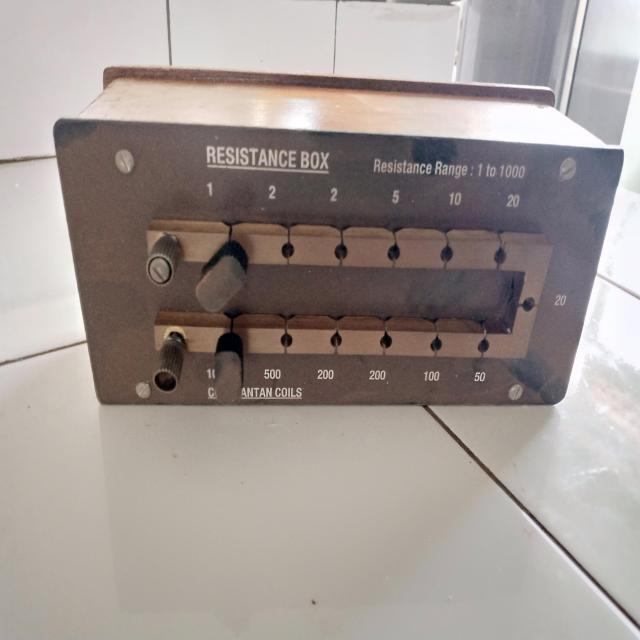Pinned Resistance Box: (35, 43, 631, 433)
